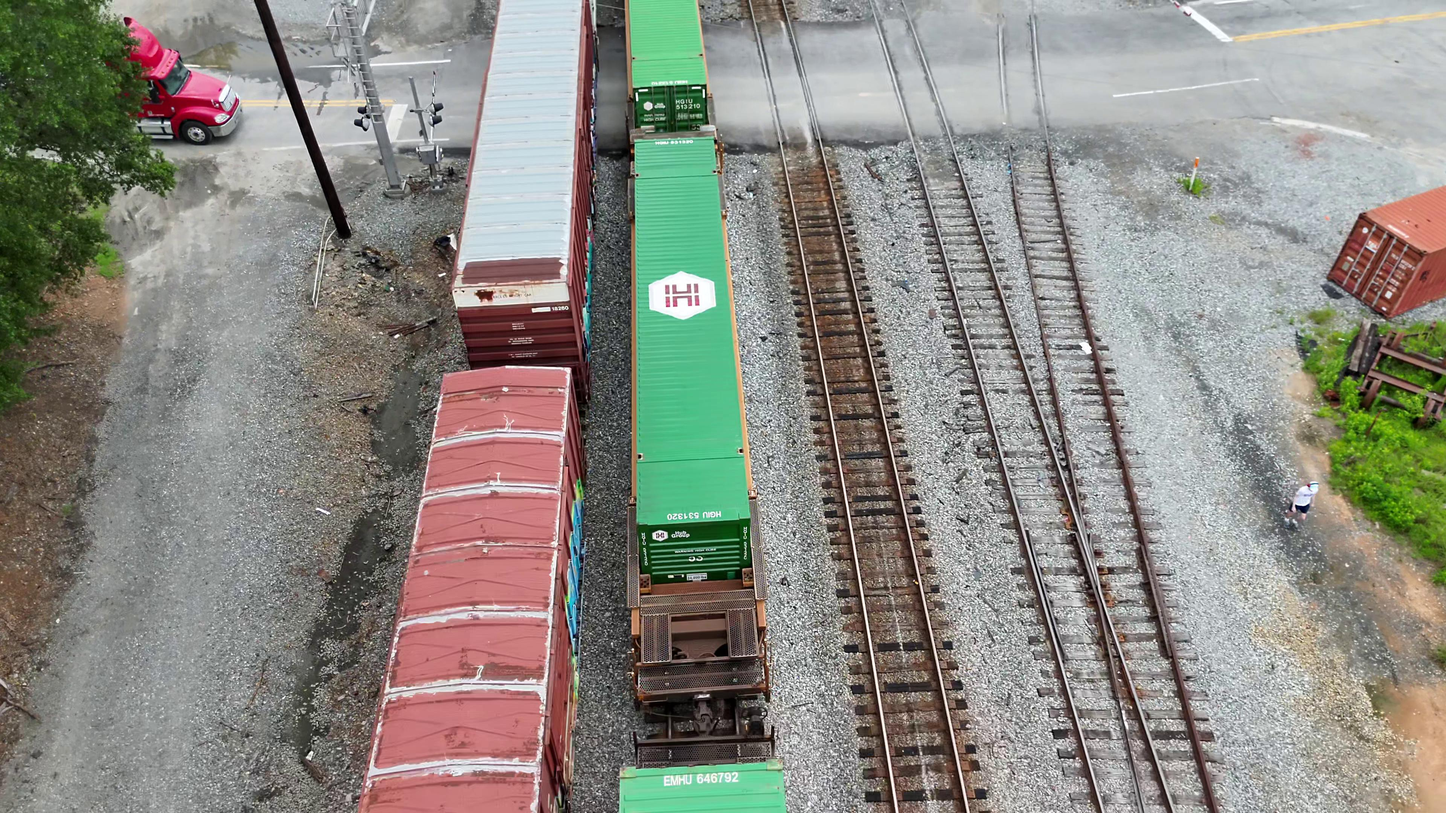human: (1284, 481, 1319, 528)
